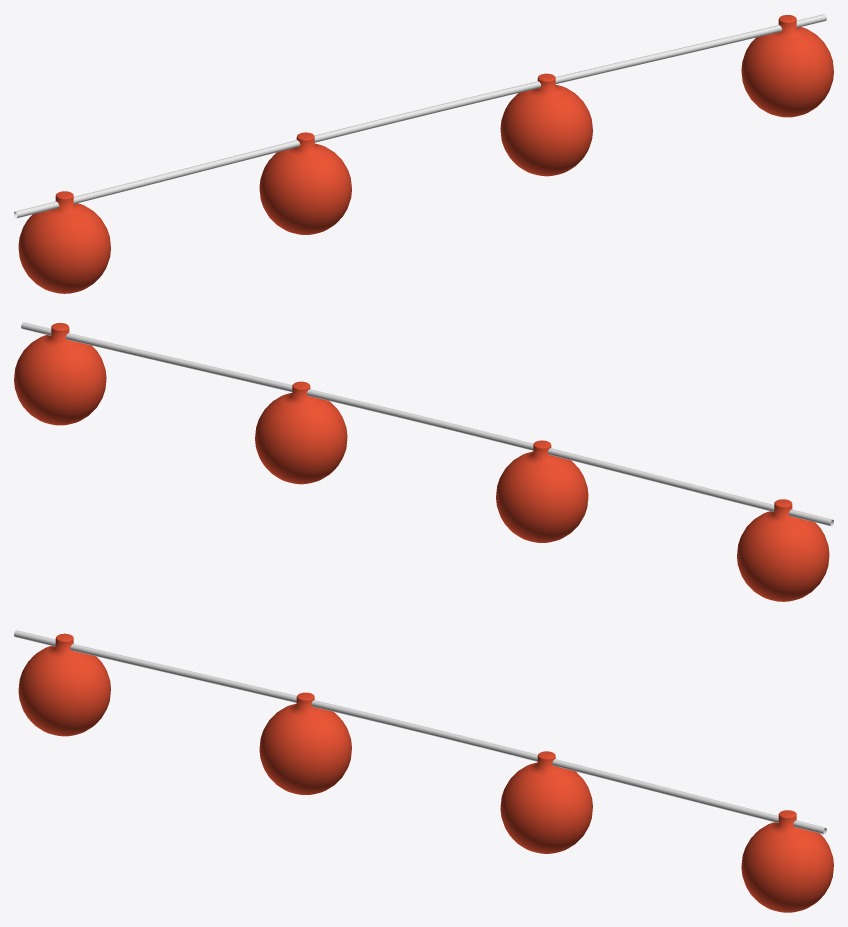
File: Samandira_Kucuk_Dizili.fbx
3 views of the same model, one above another, from view 1: azimuth 30°, elevation 25°; view 2: azimuth 150°, elevation 25°; view 3: azimuth 330°, elevation 25° (orthographic).
Parts seen in each view (by area): view 1: Samandira2, Samandira3, Samandira4, Samandira1, Samandira_Destek; view 2: Samandira2, Samandira3, Samandira4, Samandira1, Samandira_Destek; view 3: Samandira3, Samandira2, Samandira4, Samandira1, Samandira_Destek.
Part boxes in pixels (x1,y1,x2,y2): Samandira2: [500, 73, 592, 176]; Samandira3: [259, 132, 351, 234]; Samandira4: [18, 191, 110, 293]; Samandira1: [741, 15, 833, 117]; Samandira_Destek: [14, 14, 826, 218]; Samandira2: [255, 381, 347, 484]; Samandira3: [496, 440, 588, 542]; Samandira4: [737, 499, 829, 601]; Samandira1: [14, 323, 106, 425]; Samandira_Destek: [21, 322, 833, 526]; Samandira3: [259, 692, 351, 794]; Samandira2: [500, 751, 592, 853]; Samandira4: [18, 633, 110, 736]; Samandira1: [741, 810, 833, 912]; Samandira_Destek: [14, 630, 826, 834].
Size of the model in its own units: 697 by 77.9 by 68.95.
